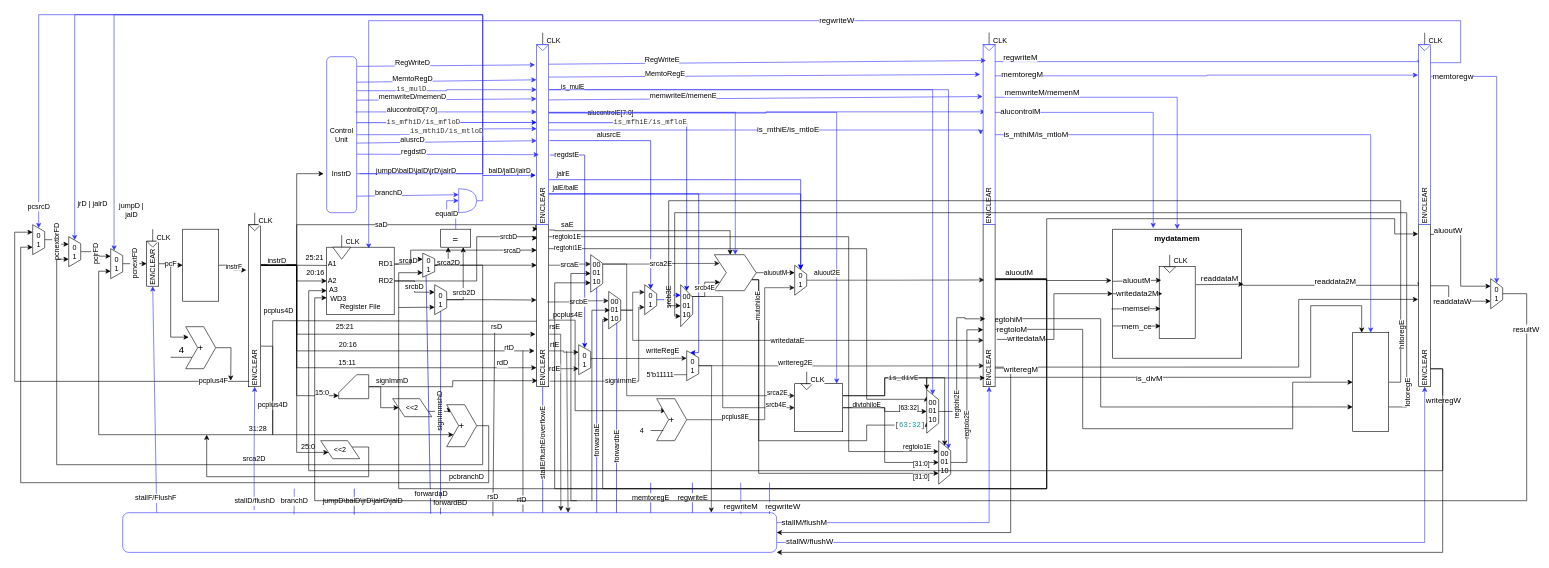
The diagram is 1549 pixels wide and 568 high, and some of its shapes have lost their labels. The shapes that lost their labels are listed below. From the top down, each one's centre as x and y in pixels, then its label:
[200,265]: Instruction Memory
[735,272]: ALU
[1177,302]: Data Memory
[353,386]: sign Extend
[1370,382]: hilo_reg
[818,407]: do_div
[449,532]: Hazard Unit
